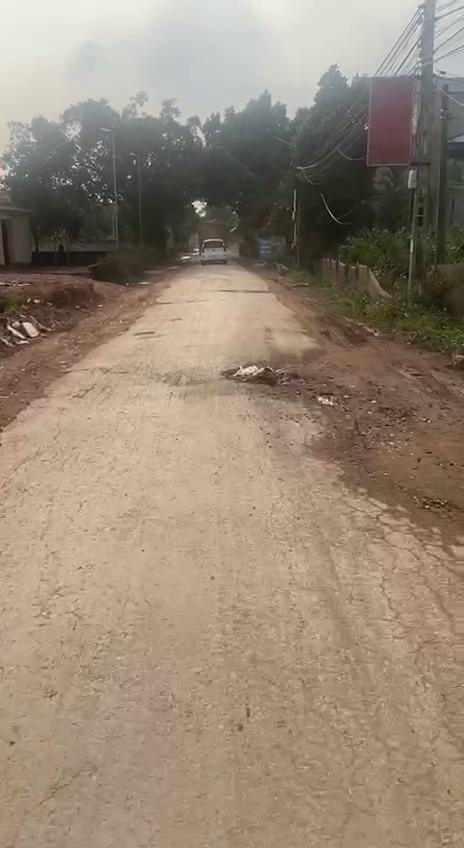pothole: (222, 364, 307, 393)
